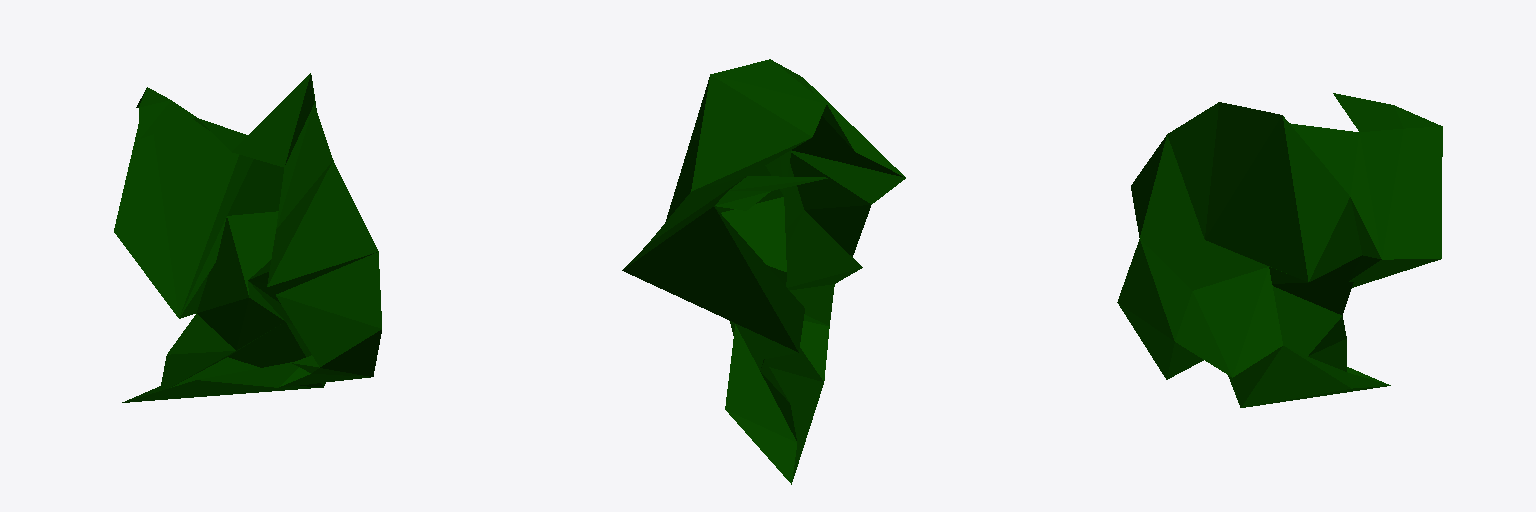
File: wallmoss_2.obj
3 views of the same model, side by side, from view 1: azimuth 30°, elevation 25°; view 2: azimuth 150°, elevation 25°; view 3: azimuth 270°, elevation 25° (orthographic).
Parts seen in each view (by area): view 1: Cube.034; view 2: Cube.034; view 3: Cube.034.
Boxes of the visible parts, box(x1,y1,x2,y2) form: Cube.034: box(114, 73, 381, 402); Cube.034: box(622, 59, 905, 484); Cube.034: box(1117, 93, 1442, 407).
Bounding box in the file's own units: 0.2987 × 0.5357 × 0.4686.